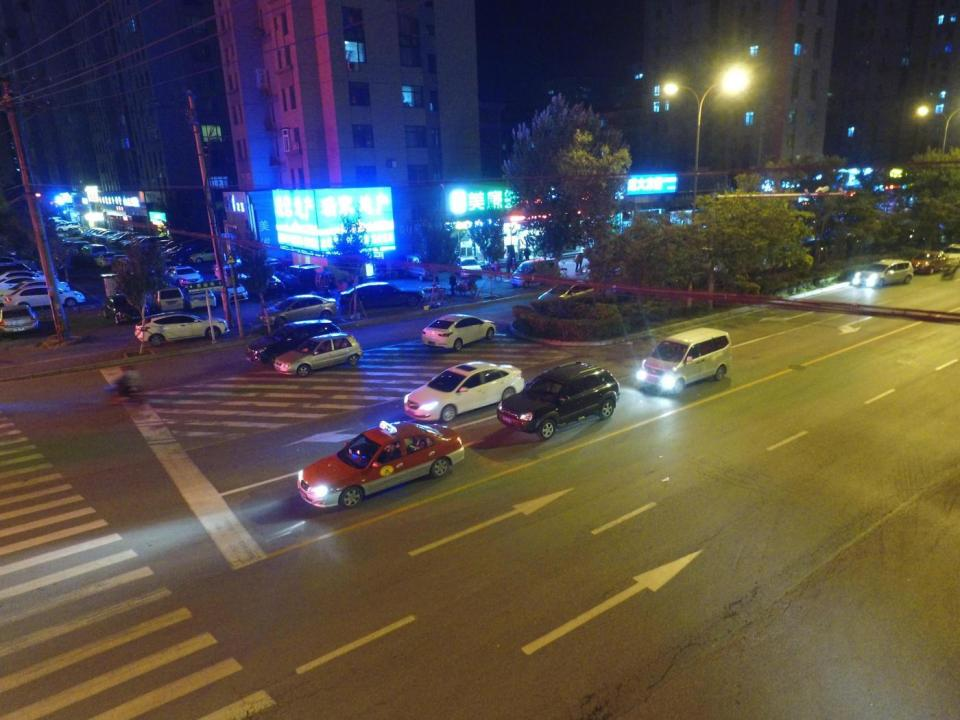car: (297, 420, 464, 508), (496, 362, 620, 440), (403, 361, 524, 422), (274, 332, 364, 375), (134, 311, 229, 346), (421, 313, 496, 352), (256, 294, 337, 329), (340, 281, 425, 310), (3, 285, 86, 307), (854, 259, 914, 287), (1, 280, 70, 302), (1, 270, 57, 295), (102, 295, 148, 324), (0, 276, 56, 299), (0, 304, 39, 334), (244, 274, 284, 297), (1, 263, 43, 284), (212, 278, 248, 302), (912, 251, 948, 275), (0, 256, 38, 278), (182, 286, 216, 310), (166, 264, 203, 286), (189, 246, 232, 263), (452, 256, 481, 278), (170, 245, 207, 262), (94, 252, 118, 268), (943, 243, 960, 265), (55, 222, 81, 232), (67, 227, 80, 237)
van: (637, 327, 732, 393), (246, 319, 342, 365), (510, 257, 560, 287), (147, 284, 184, 312), (402, 255, 439, 280), (288, 264, 322, 288), (128, 236, 168, 253), (80, 244, 108, 262)
